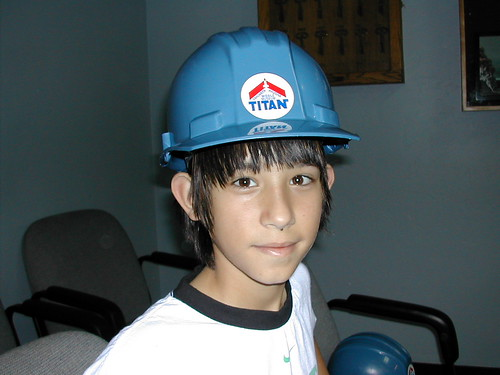hardhat: (332, 327, 431, 375)
person hardhat: (140, 30, 366, 374)
